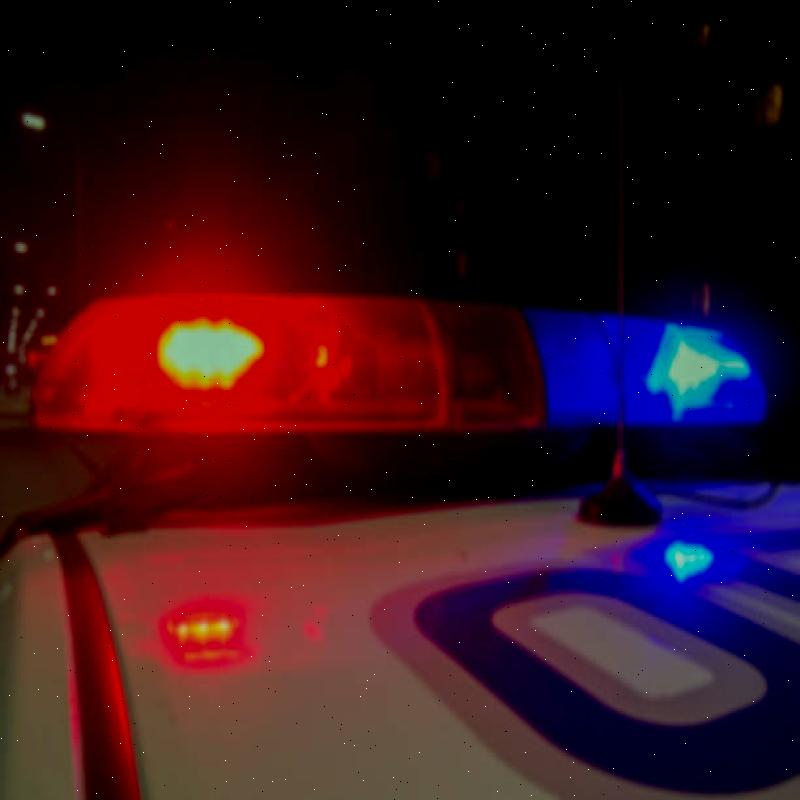AmbulanceSiren: (44, 267, 780, 457)
